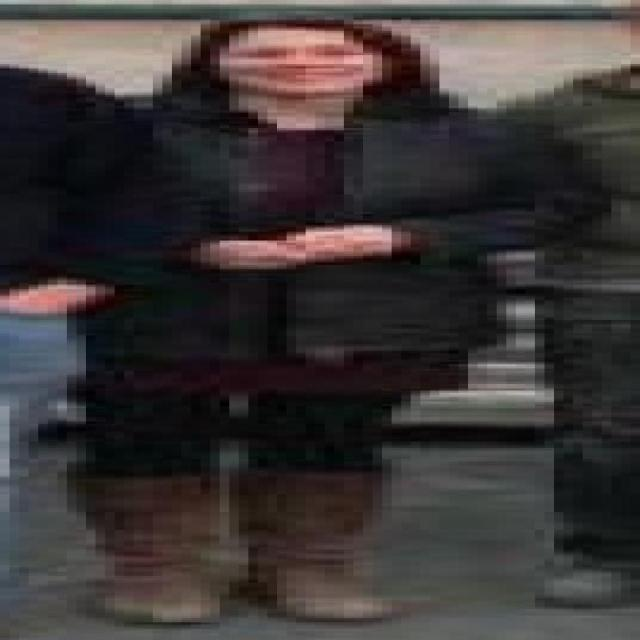Helmet: (15, 58, 639, 380), (103, 1, 581, 130)
